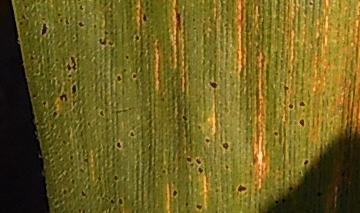tarspot: (64, 55, 79, 72), (217, 138, 232, 153), (278, 192, 293, 207), (37, 20, 50, 37), (97, 31, 111, 46), (112, 135, 123, 154), (49, 108, 63, 122), (234, 182, 249, 195), (127, 70, 142, 83), (96, 106, 109, 121), (67, 81, 79, 97), (221, 160, 233, 176), (312, 187, 329, 198), (205, 77, 218, 91), (111, 71, 124, 85), (270, 196, 283, 210), (138, 9, 150, 24), (75, 17, 86, 33), (270, 126, 281, 142), (196, 164, 209, 177), (179, 112, 192, 124), (299, 157, 311, 170), (200, 134, 212, 147), (284, 100, 296, 112), (297, 117, 309, 129), (193, 200, 205, 212), (121, 51, 133, 63), (76, 2, 88, 14), (169, 187, 180, 200), (132, 30, 143, 43), (80, 154, 91, 167), (282, 83, 292, 97), (66, 150, 76, 164), (183, 152, 194, 164), (115, 195, 126, 206), (110, 172, 121, 183), (298, 97, 307, 110), (94, 173, 104, 184), (77, 188, 87, 198), (125, 130, 136, 139), (39, 98, 48, 108), (195, 156, 203, 167), (287, 184, 295, 193)
